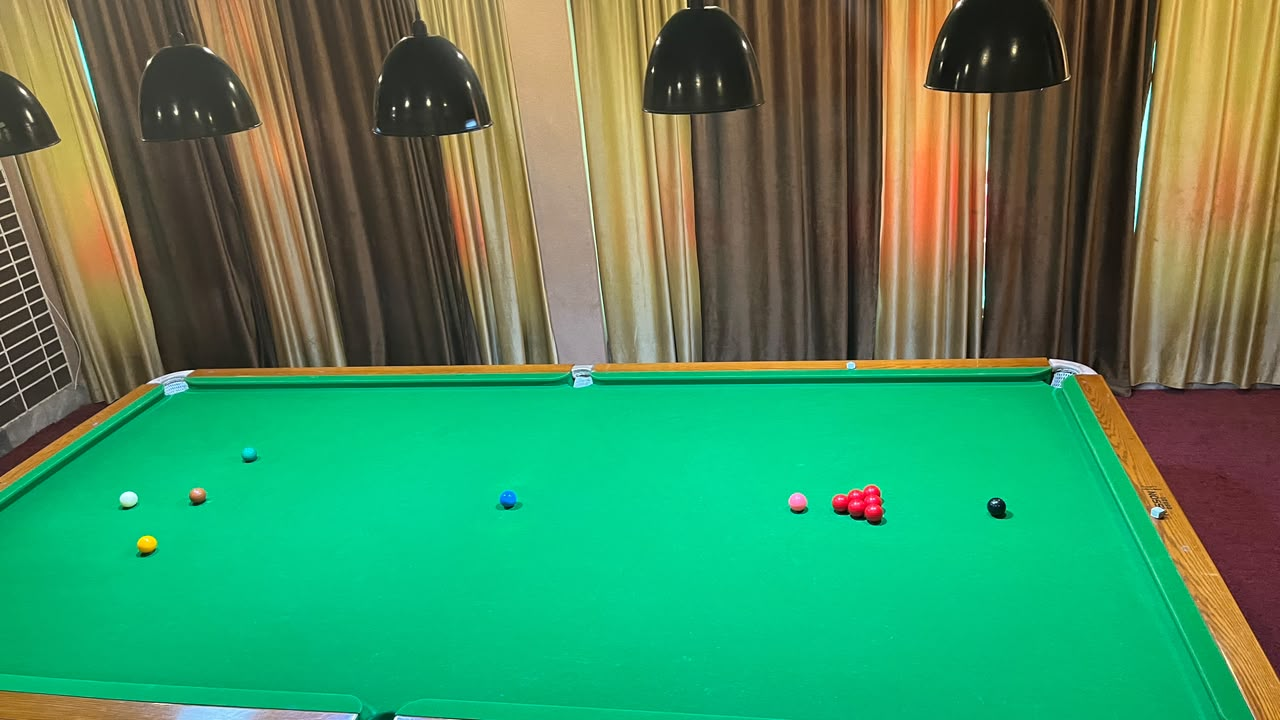Snooker: (821, 464, 897, 544)
